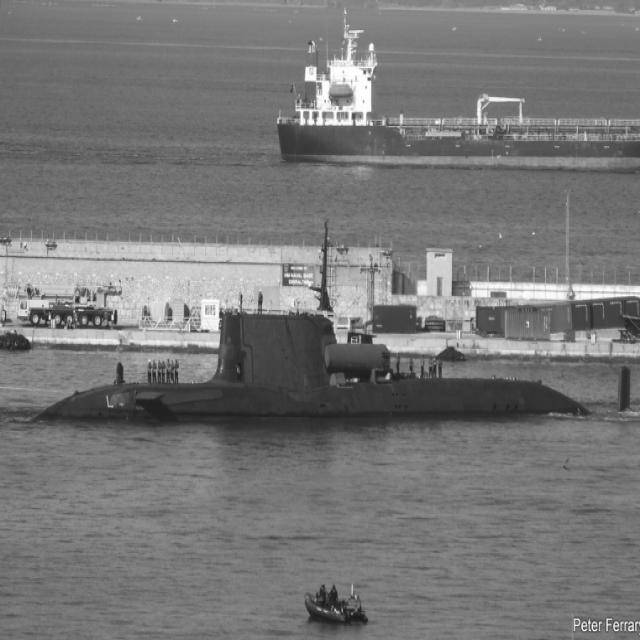submarine: (27, 316, 590, 415)
